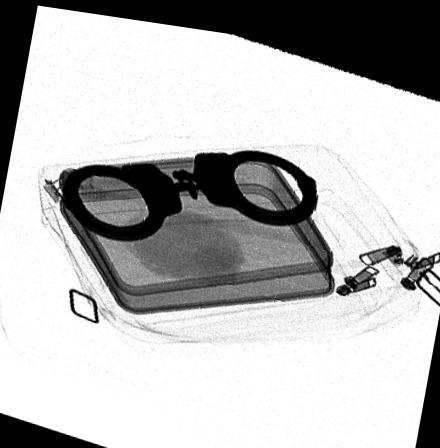HandCuffs: (60, 141, 318, 236)
